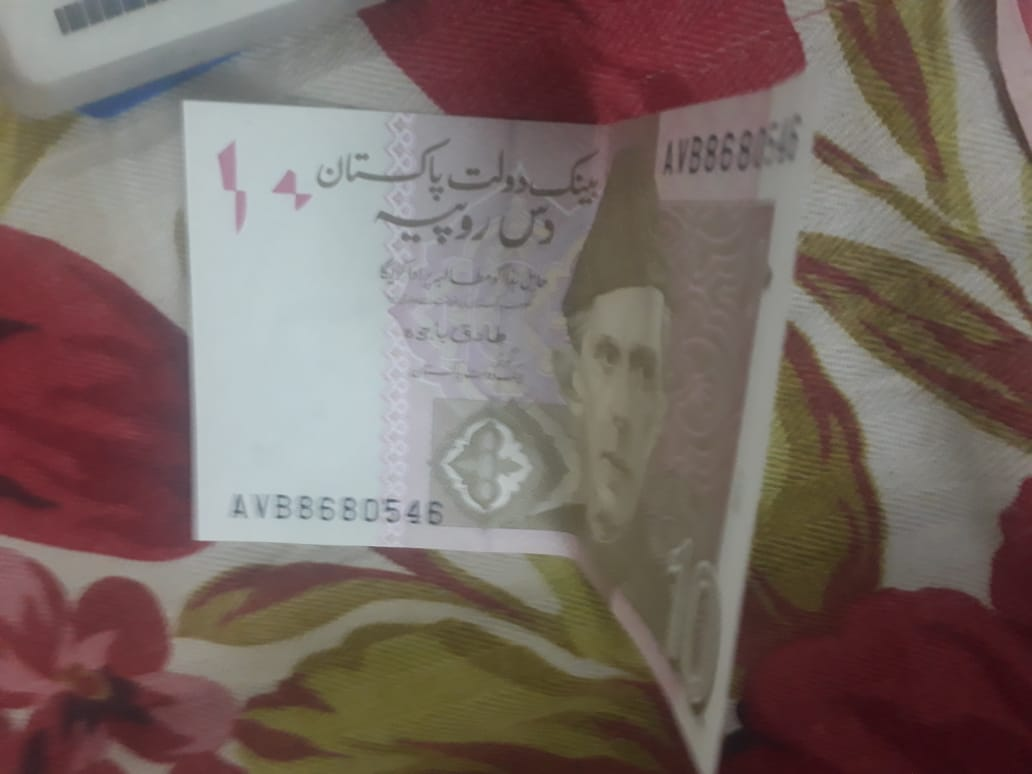10 rupee: (178, 84, 832, 774)
